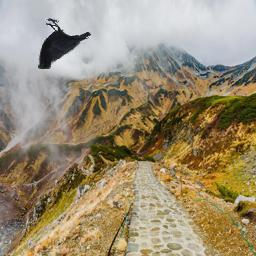Crow: (39, 17, 92, 69)
